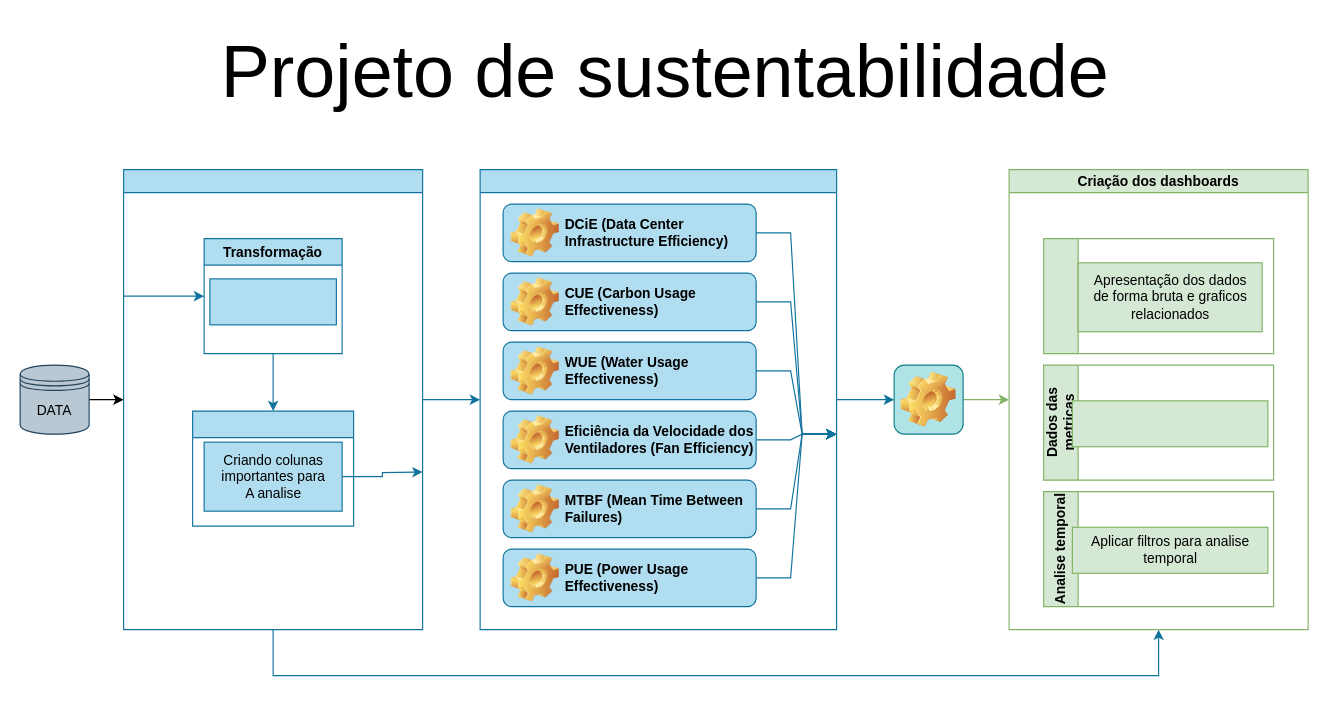
Image size: 1328x705. Some labels were removed from this diagram. The shapes that lost their labels are listed below. From the top down, each one's box as (x1, y1, x2, y2) in pixels, then its label:
(209, 278, 336, 325): Alteração da tipagem e datas
(1042, 237, 1274, 354): Dados brutos
(122, 168, 423, 630): PREPROCESSING
(479, 168, 837, 630): Criação de metricas
(893, 364, 963, 434): Aplicando metricas
(1071, 400, 1268, 447): Apresentação dos dados, usando as metricas
(191, 410, 354, 526): Criação de Colunas
